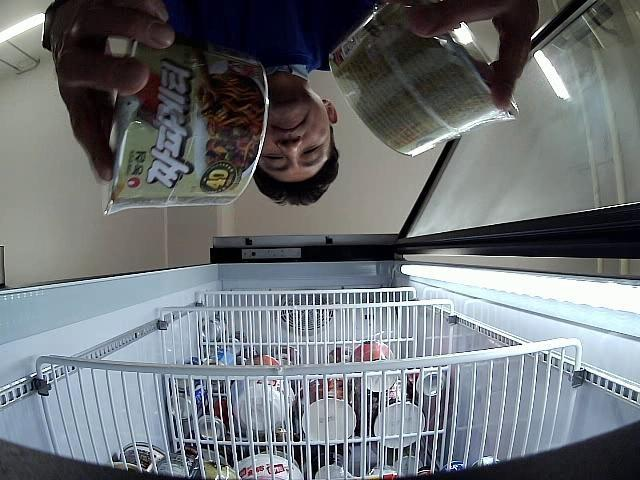03_chapagetti_L: (330, 0, 518, 155), (104, 45, 268, 215)
